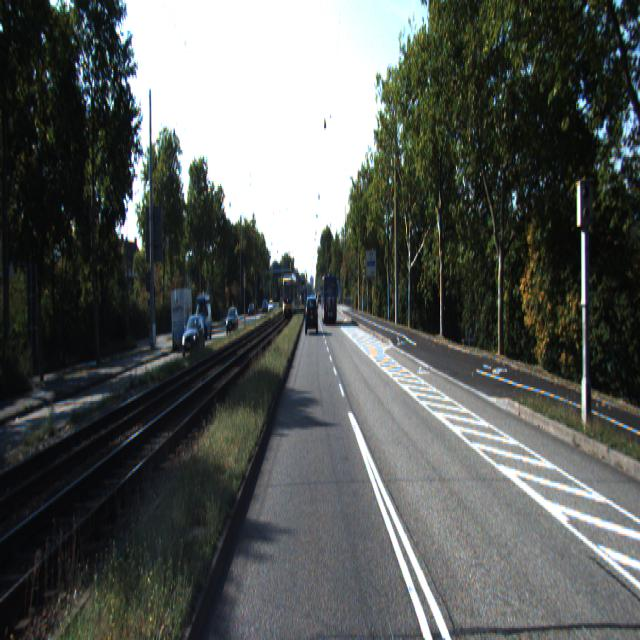Car: (171, 287, 193, 353), (181, 313, 206, 361), (194, 299, 213, 343), (322, 273, 338, 324), (306, 299, 318, 336)
